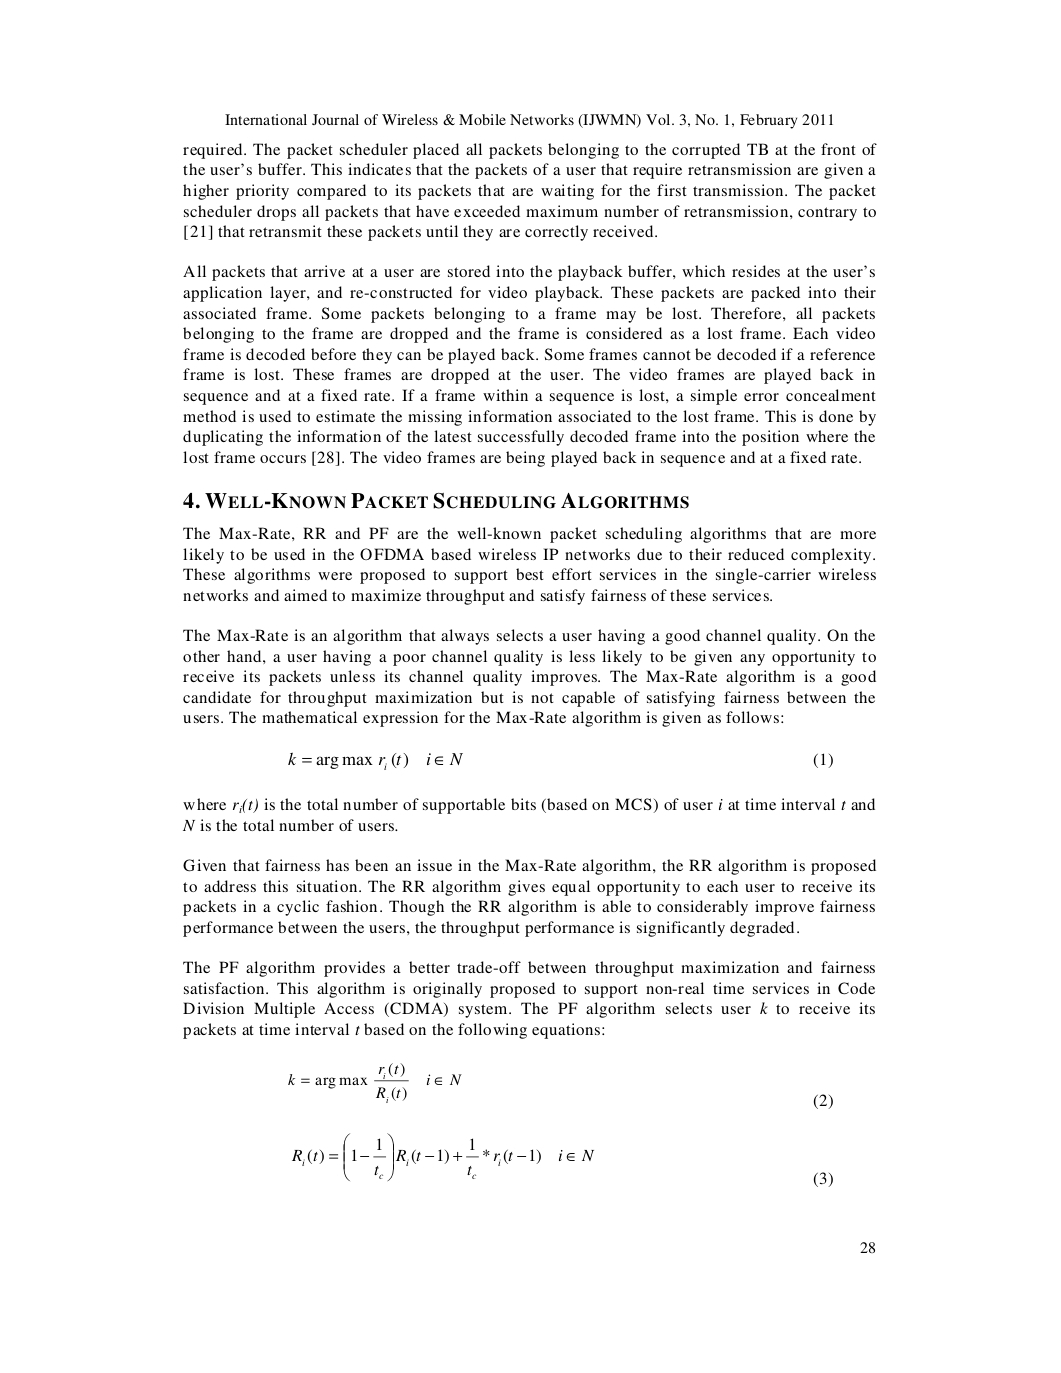formula: (291, 1132, 833, 1187), (288, 1062, 833, 1109), (288, 751, 833, 770)
